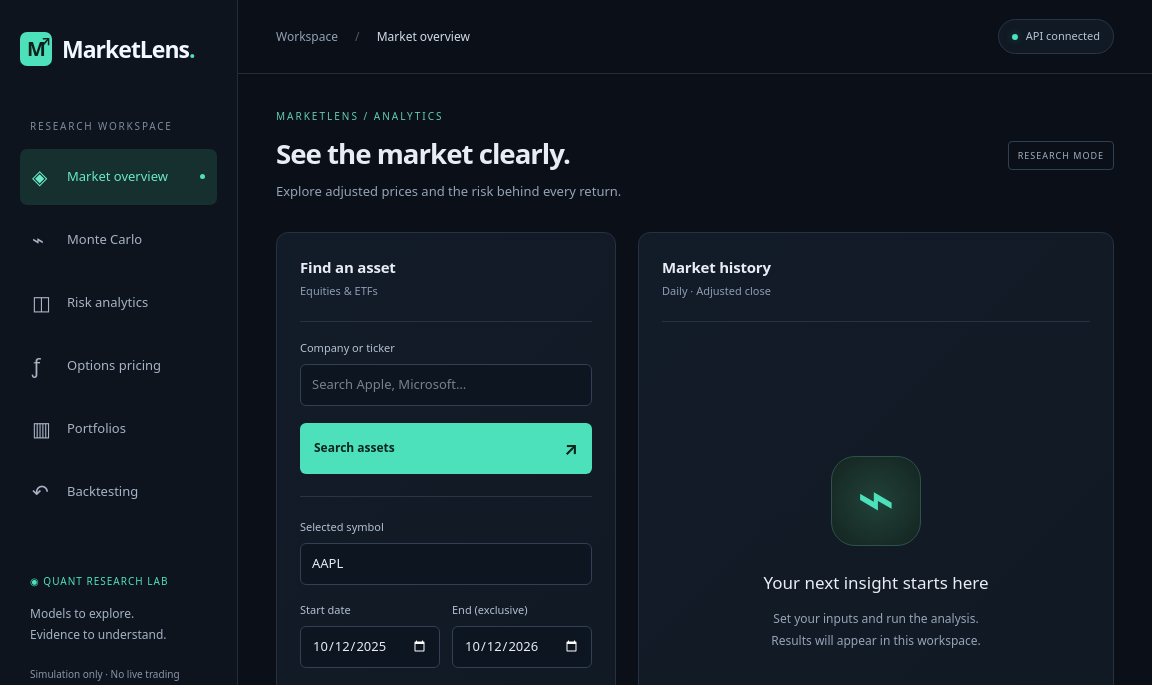
Test case: submits normalized portfolio CSV and optimizer constraints
Click the button "▥ Portfolios".
click(118, 428)  # box [20,400,217,456]
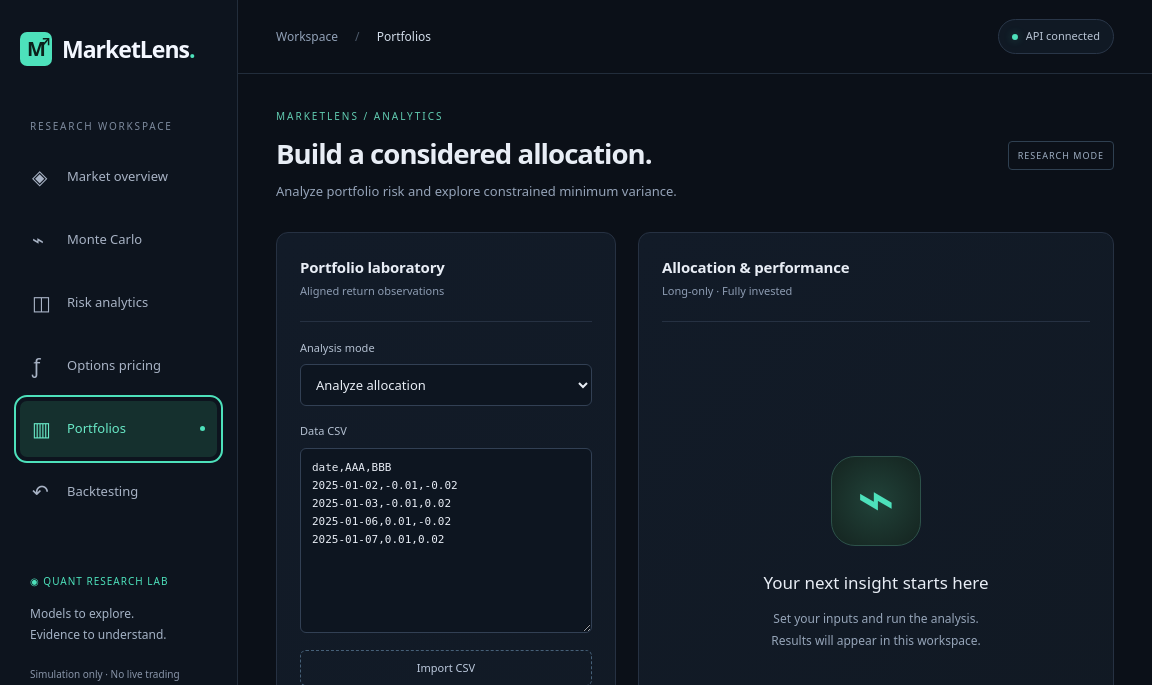
Select "Optimize minimum variance" in the dropdown labelled "Analysis mode" at (446, 385), box [300,364,592,406]
(page scrolled)
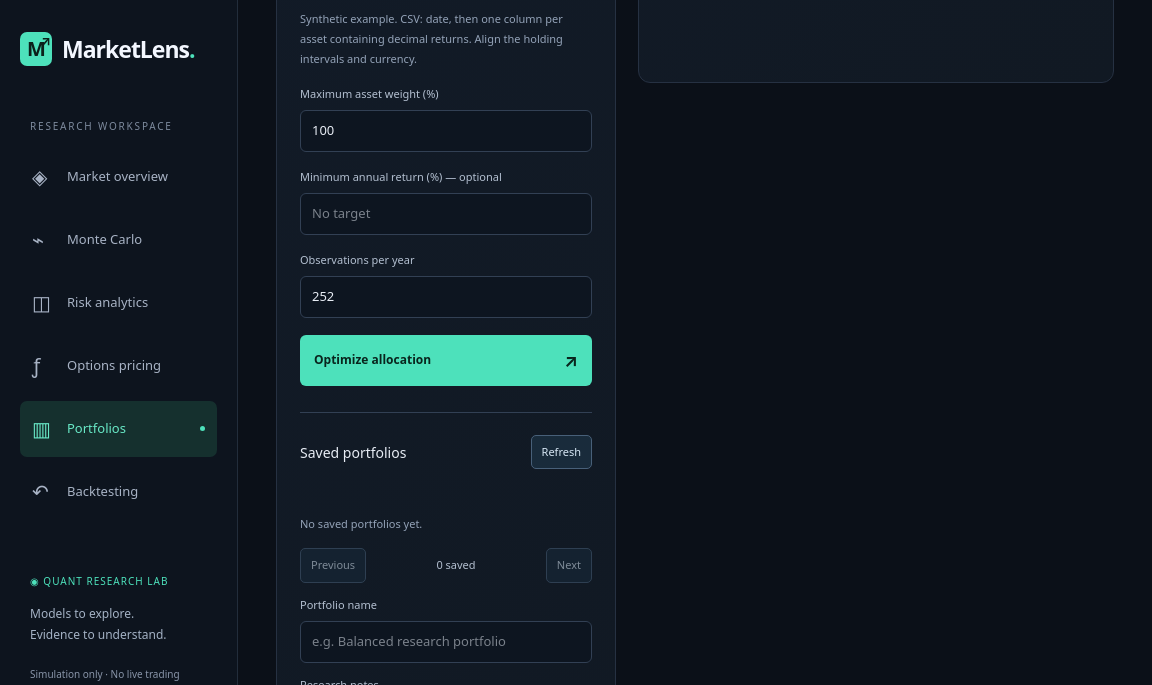
Click the button "Optimize allocation ↗".
click(373, 360)  # box [300,335,592,386]
(page scrolled)
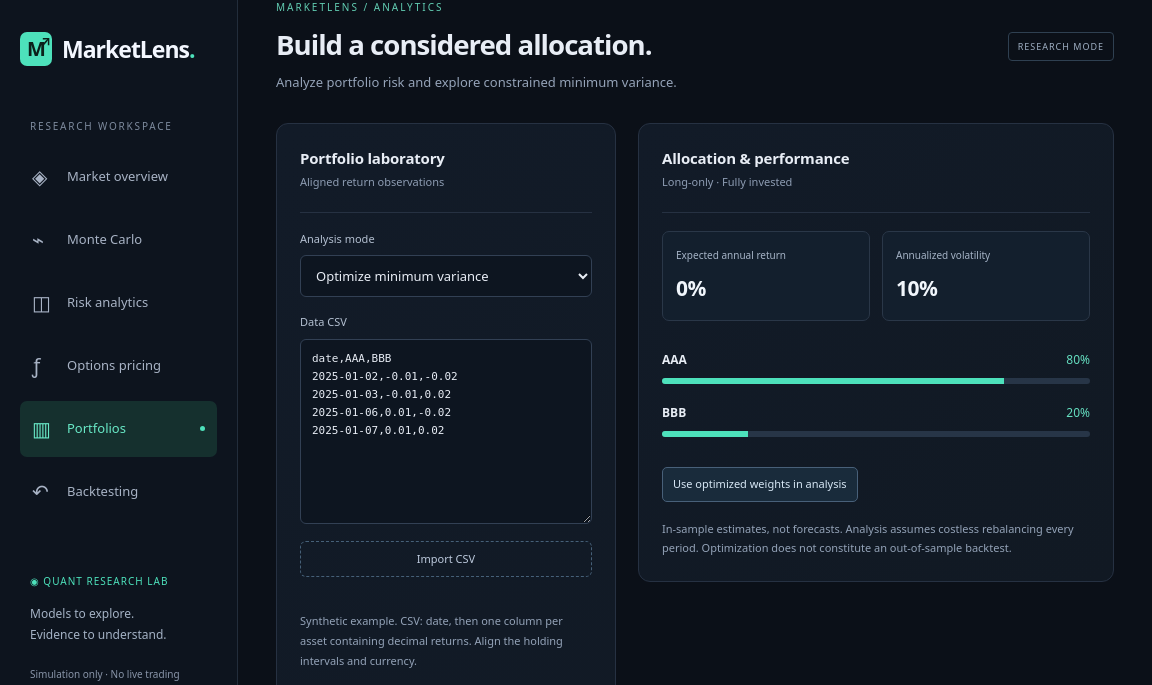
Expected: the text "80%" is shown, [1066,351,1090,369]
